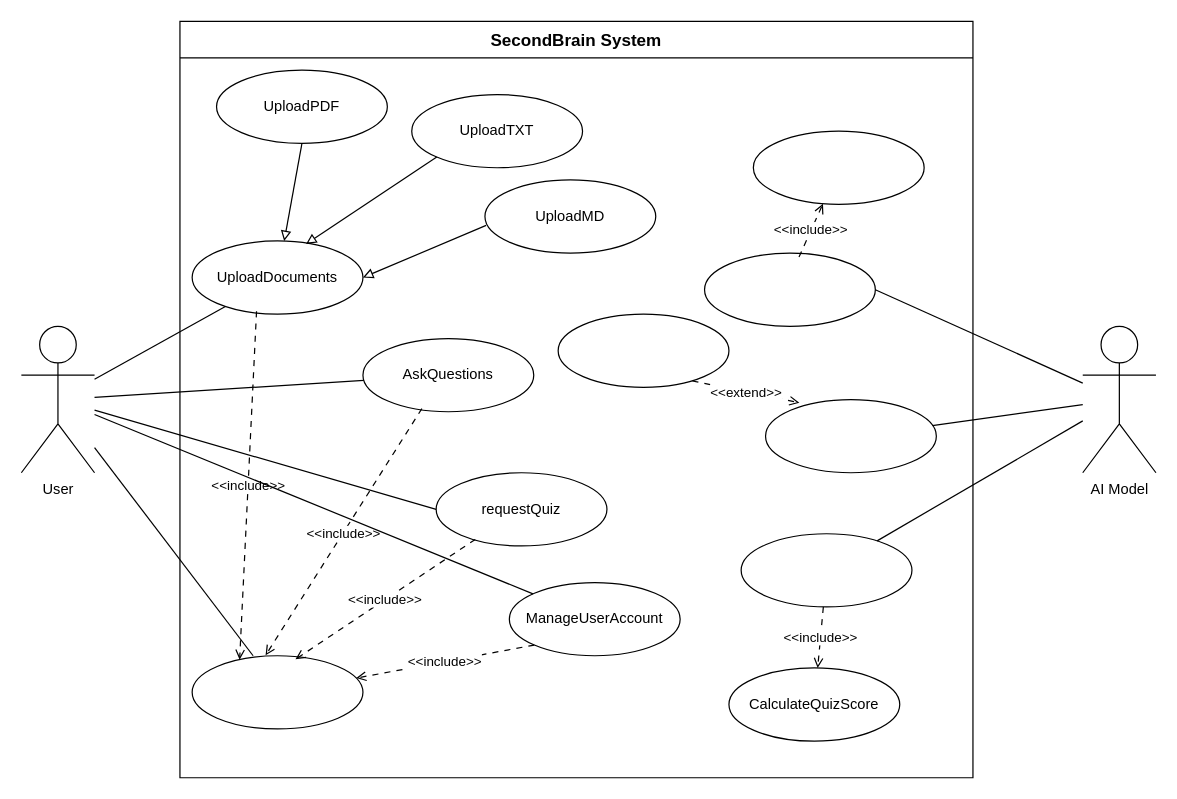
This 1177x799 diagram has some shape labels left out. The shapes that lost their labels are listed below. From the top down, each one's box as (x1, y1, x2, y2) in pixels, then its label:
(752, 130, 924, 204): Process Content
(703, 252, 875, 326): UpdateKnowledgeBase
(557, 313, 729, 387): EditNote
(764, 398, 936, 473): answerQuestions
(740, 533, 912, 607): GenerateQuiz
(191, 655, 363, 729): Authenticate
